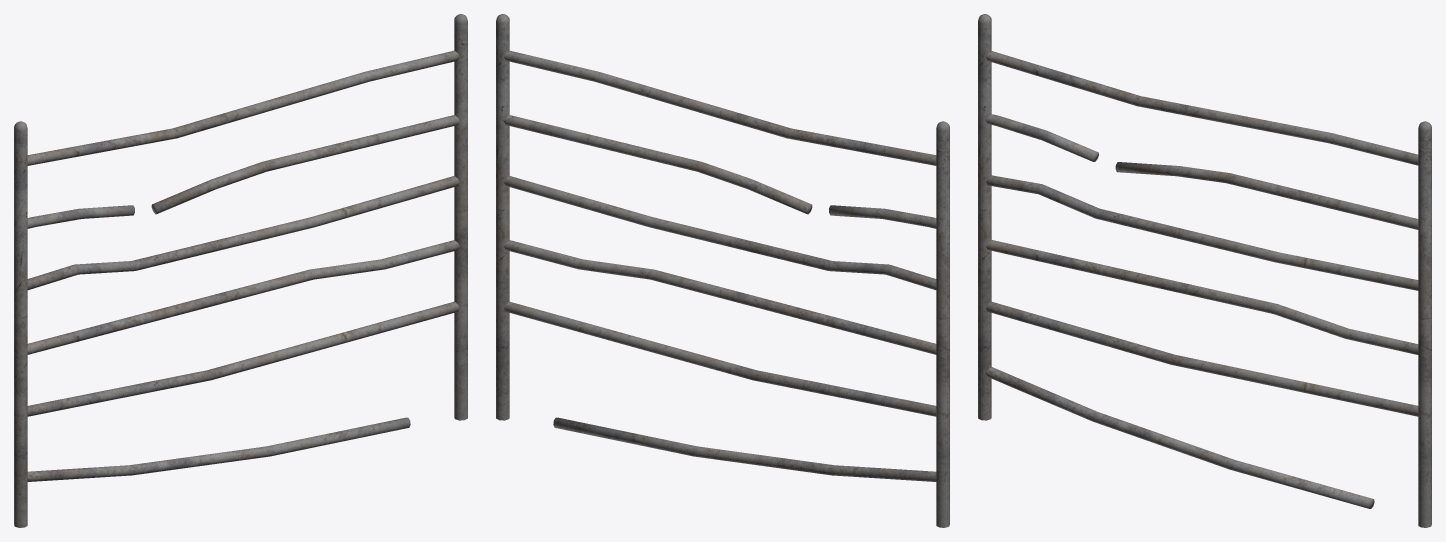
The model's file is SM_FAR_FenceBroken_01.fbx.
The picture shows the model from 3 angles, left to right: view 1: azimuth 30°, elevation 25°; view 2: azimuth 150°, elevation 25°; view 3: azimuth 330°, elevation 25°; orthographic projection.
Visible parts, largest first — view 1: SM_FAR_FenceBroken_01.mo; view 2: SM_FAR_FenceBroken_01.mo; view 3: SM_FAR_FenceBroken_01.mo.
Part boxes in pixels (left/top/right/bottom): SM_FAR_FenceBroken_01.mo: left=14, top=14, right=467, bottom=527; SM_FAR_FenceBroken_01.mo: left=496, top=14, right=949, bottom=527; SM_FAR_FenceBroken_01.mo: left=978, top=14, right=1431, bottom=527.
Bounding box in the file's own units: 137 × 116 × 3.74.
